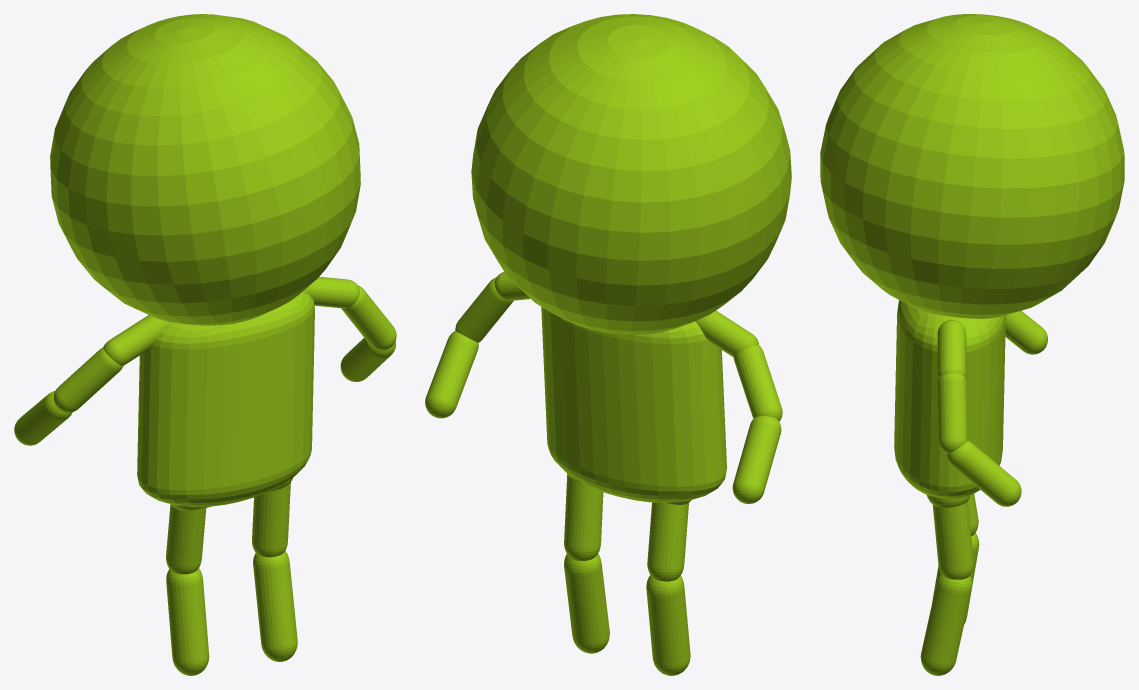
File: Stickman_000087.obj
The picture shows the model from 3 angles, left to right: view 1: azimuth 30°, elevation 25°; view 2: azimuth 150°, elevation 25°; view 3: azimuth 270°, elevation 25°; orthographic projection. The views are drawn at different scales.
Visible parts, largest first — view 1: Head_Sphere.001, Body_Roundcube.002, LowerLegLeft_Roundcube.013, LowerLegRight_Roundcube.011, UpperLegLeft_Roundcube.012, UpperLegRight_Roundcube.010, UpperArmRight_Roundcube.015, UpperArmLeft_Roundcube.018, ShoulderRight_Roundcube.014, LowerArmRight_Roundcube.016, ShoulderLeft_Roundcube.017, LowerArmLeft_Roundcube.019; view 2: Head_Sphere.001, Body_Roundcube.002, LowerLegRight_Roundcube.011, LowerLegLeft_Roundcube.013, UpperLegRight_Roundcube.010, LowerArmRight_Roundcube.016, UpperLegLeft_Roundcube.012, LowerArmLeft_Roundcube.019, UpperArmRight_Roundcube.015, UpperArmLeft_Roundcube.018, ShoulderRight_Roundcube.014, ShoulderLeft_Roundcube.017; view 3: Head_Sphere.001, Body_Roundcube.002, LowerLegLeft_Roundcube.013, UpperLegLeft_Roundcube.012, LowerArmLeft_Roundcube.019, UpperArmLeft_Roundcube.018, ShoulderLeft_Roundcube.017, LowerArmRight_Roundcube.016.
Part boxes in pixels (x1,y1,x2,y2): Head_Sphere.001: [50, 14, 360, 325]; Body_Roundcube.002: [137, 291, 314, 506]; LowerLegLeft_Roundcube.013: [253, 551, 297, 661]; LowerLegRight_Roundcube.011: [166, 568, 209, 675]; UpperLegLeft_Roundcube.012: [252, 482, 290, 557]; UpperLegRight_Roundcube.010: [166, 504, 206, 574]; UpperArmRight_Roundcube.015: [53, 347, 123, 412]; UpperArmLeft_Roundcube.018: [341, 285, 396, 350]; ShoulderRight_Roundcube.014: [103, 315, 169, 365]; LowerArmRight_Roundcube.016: [14, 391, 72, 445]; ShoulderLeft_Roundcube.017: [303, 276, 359, 308]; LowerArmLeft_Roundcube.019: [340, 338, 395, 381]; Head_Sphere.001: [471, 14, 791, 334]; Body_Roundcube.002: [541, 307, 726, 502]; LowerLegRight_Roundcube.011: [646, 575, 690, 675]; LowerLegLeft_Roundcube.013: [564, 553, 609, 653]; UpperLegRight_Roundcube.010: [647, 502, 688, 581]; LowerArmRight_Roundcube.016: [732, 416, 781, 503]; UpperLegLeft_Roundcube.012: [564, 475, 603, 560]; LowerArmLeft_Roundcube.019: [425, 331, 478, 418]; UpperArmRight_Roundcube.015: [733, 344, 782, 421]; UpperArmLeft_Roundcube.018: [455, 277, 513, 342]; ShoulderRight_Roundcube.014: [695, 310, 758, 357]; ShoulderLeft_Roundcube.017: [494, 272, 530, 300]; Head_Sphere.001: [820, 14, 1124, 318]; Body_Roundcube.002: [894, 300, 1005, 498]; LowerLegLeft_Roundcube.013: [920, 573, 972, 675]; UpperLegLeft_Roundcube.012: [932, 501, 973, 579]; LowerArmLeft_Roundcube.019: [946, 440, 1021, 506]; UpperArmLeft_Roundcube.018: [937, 373, 967, 453]; ShoulderLeft_Roundcube.017: [937, 320, 966, 377]; LowerArmRight_Roundcube.016: [1005, 310, 1047, 354].
Size of the model in its own units: 7.61 by 13.48 by 6.01.
